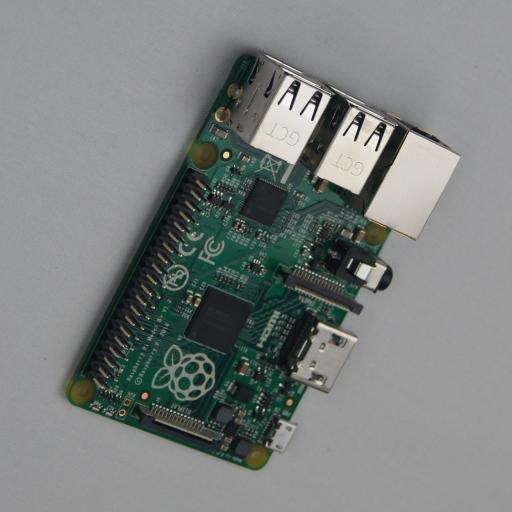Raspberry Pi 1 B-: (64, 47, 460, 470)
